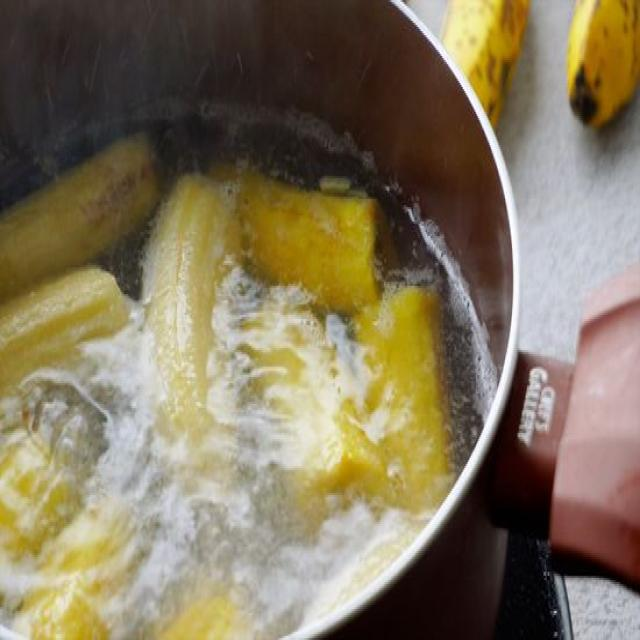platano: (128, 164, 258, 478)
